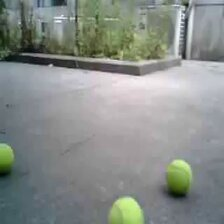tennis: (108, 196, 146, 224), (165, 160, 190, 195), (1, 142, 14, 174)
